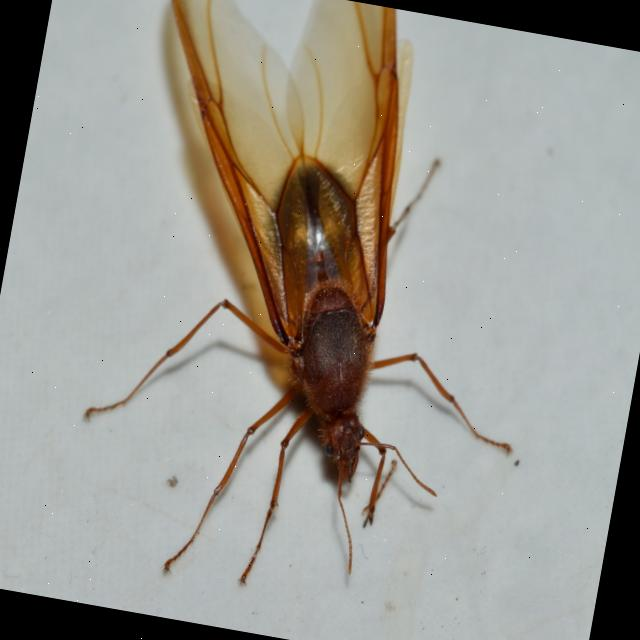Alive-Male-Alate: (57, 0, 586, 633)
